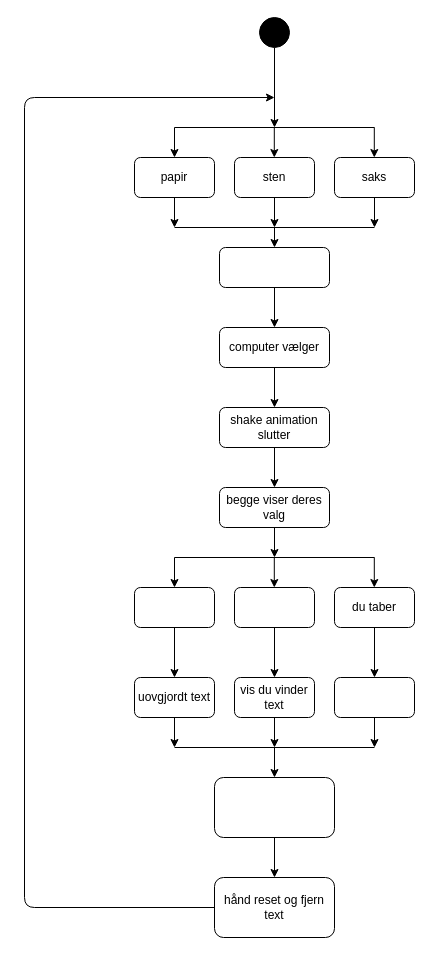
The diagram is 432 pixels wide and 955 high, and some of its shapes have lost their labels. The centre of each missing label's shape, as x and y in pixels:
click på knap: the point at 274,807
du vinder: the point at 274,607
shake animation: the point at 274,267
uovgjordt: the point at 174,607
vis du taber text: the point at 374,697
